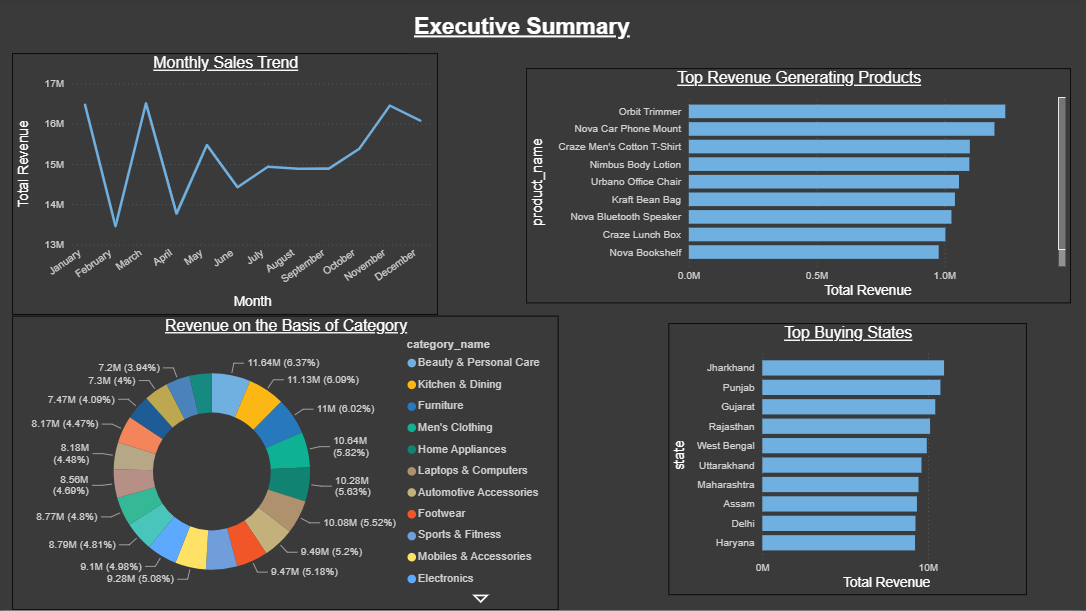

The page's visual inventory and layout, read from the dashboard file:
{"tool":"powerbi","page":{"name":"Page 2","canvas":[1280,720],"ordinal":1},"visuals":[{"type":"donutChart","title":"Revenue on the Basis of Category","fields":{"Y":["Measures (2).Total Revenue"],"Category":["category.category_name"]},"box":[18.7,373.8,641.7,345.8],"z":0},{"type":"lineChart","title":"Monthly Sales Trend","fields":{"Y":["Measures (2).Total Revenue"],"Category":["Date.Date.Variation.Date Hierarchy.Month"]},"box":[18.7,65.4,500,306.8],"z":1000},{"type":"clusteredBarChart","title":"Top Revenue Generating Products ","fields":{"Category":["product.product_name"],"Y":["Measures (2).Total Revenue"]},"box":[623,84.1,640.2,275.7],"z":2000},{"type":"clusteredBarChart","title":"Top Buying States","fields":{"Category":["customer.state"],"Y":["Measures (2).Total Revenue"]},"box":[789.7,383.2,420.5,319.3],"z":3000},{"type":"textbox","box":[486,14,274.1,51.4],"z":4000}]}

Visuals, with their boxes in screenshot pixels (x1, y1, x2, y2), scaled from the page's 1280x720 canvas onto the 1086x611 screenshot:
"Revenue on the Basis of Category" donutChart: rect(16, 317, 560, 610)
"Monthly Sales Trend" lineChart: rect(16, 55, 440, 316)
"Top Revenue Generating Products " clusteredBarChart: rect(529, 71, 1072, 305)
"Top Buying States" clusteredBarChart: rect(670, 325, 1027, 596)
textbox: rect(412, 12, 645, 55)
